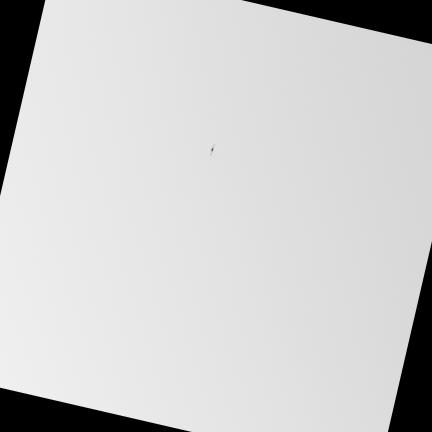Shahed: (208, 143, 215, 156)
